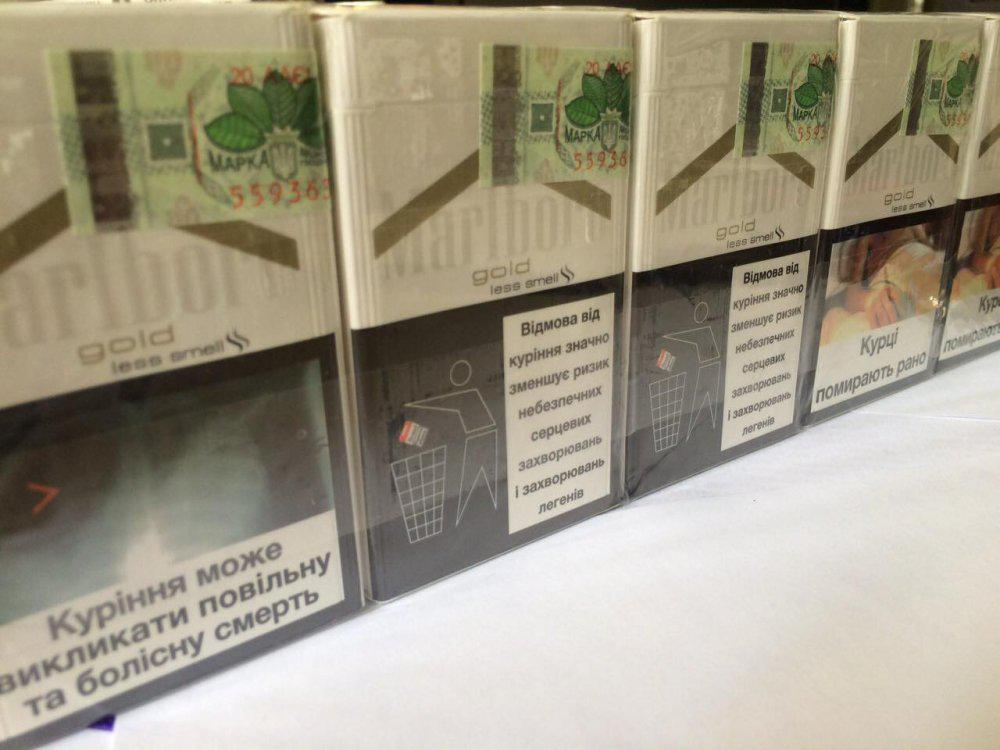marlboro_gold: (1, 8, 338, 620), (338, 6, 621, 520), (645, 18, 824, 434), (821, 22, 968, 367)
